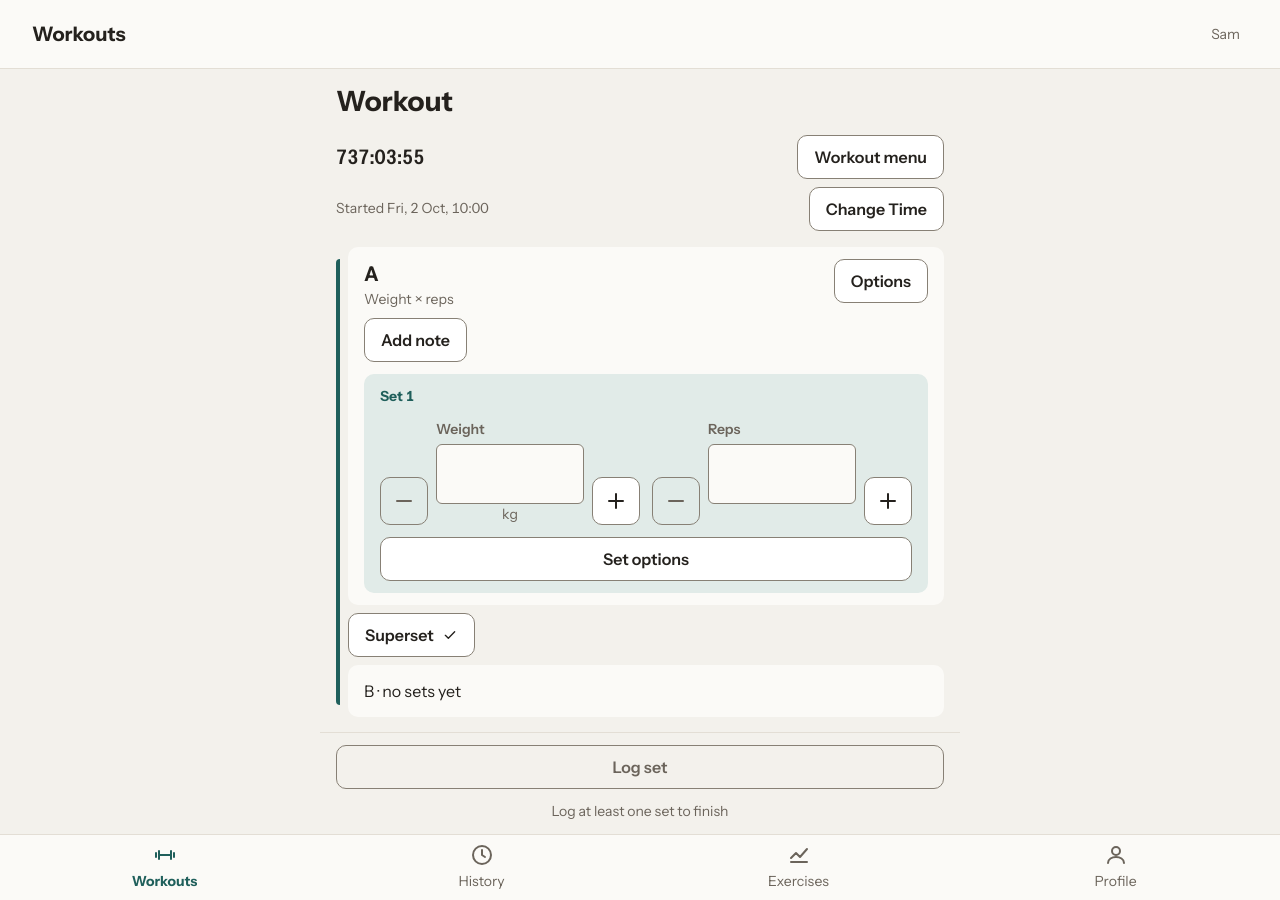
Test: 10.1 AC19 — link toggles › one between each adjacent pair, none after the last; pressed state and label follow the link
Expected: the heading "Workout" is shown, top-left (336, 84), bottom-right (453, 118)
Step 1. Click the button "B · no sets yet" → (413, 691), box top-left (364, 669), bottom-right (928, 713)
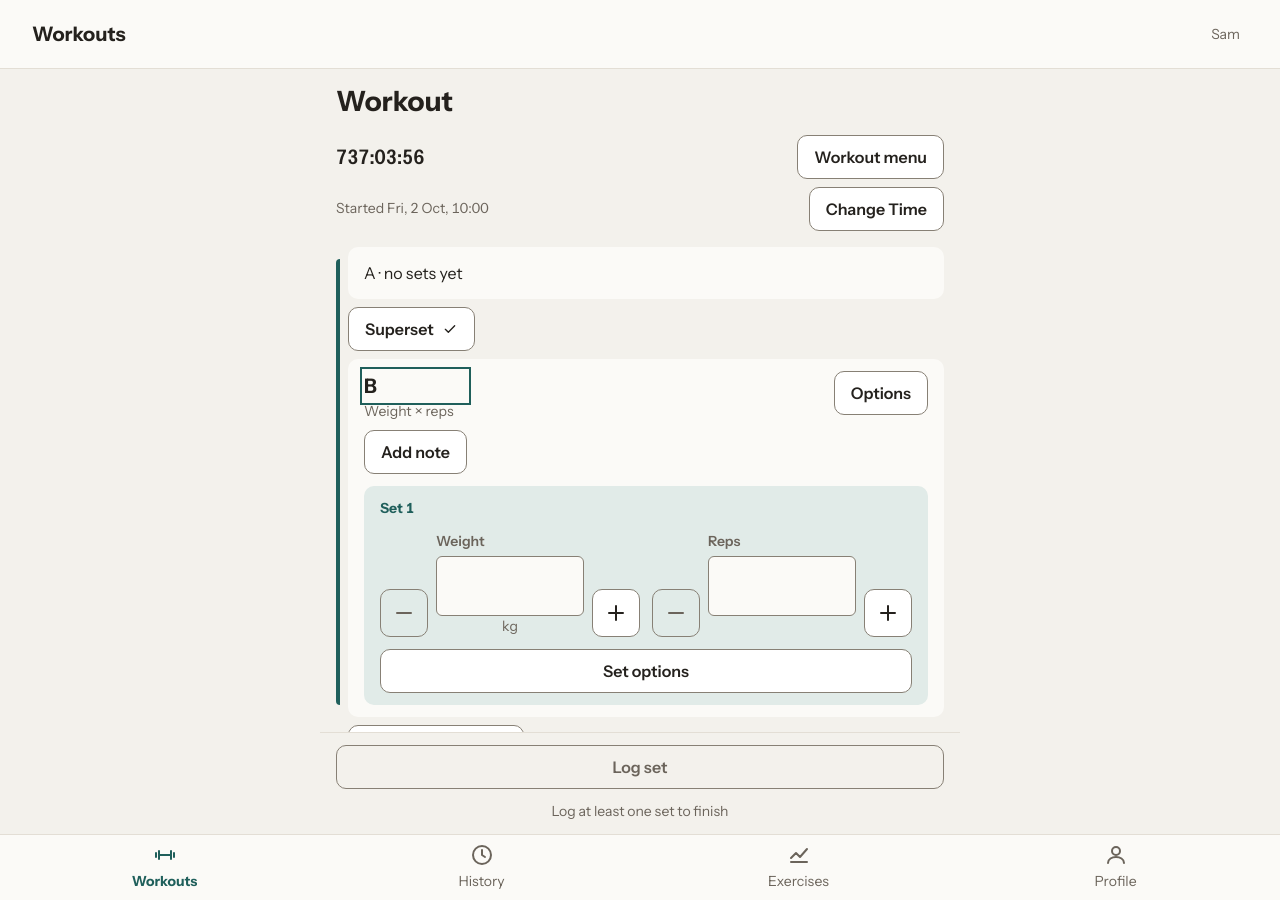
Now the number of buttons "Superset " is 2, box top-left (348, 307), bottom-right (475, 351); top-left (348, 725), bottom-right (524, 769)
